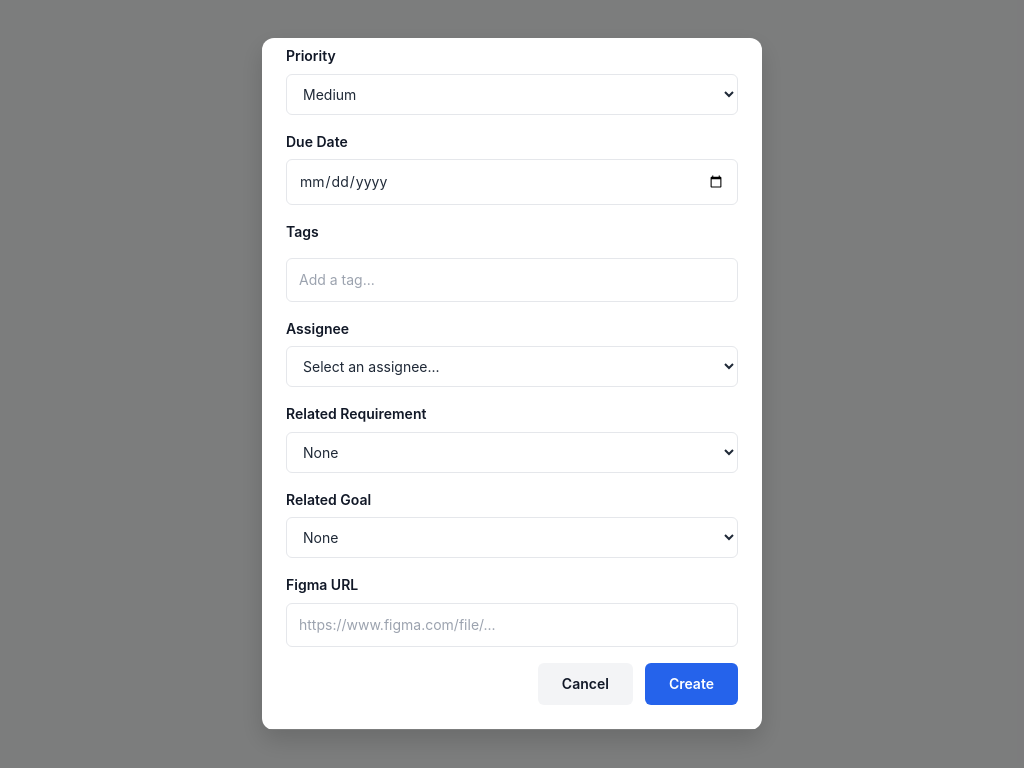
Test: Modal › should clear error when typing in title input
(page scrolled)
Step 1. Click the button with aria-label "Create new item" → (691, 684), box [645,663,738,705]
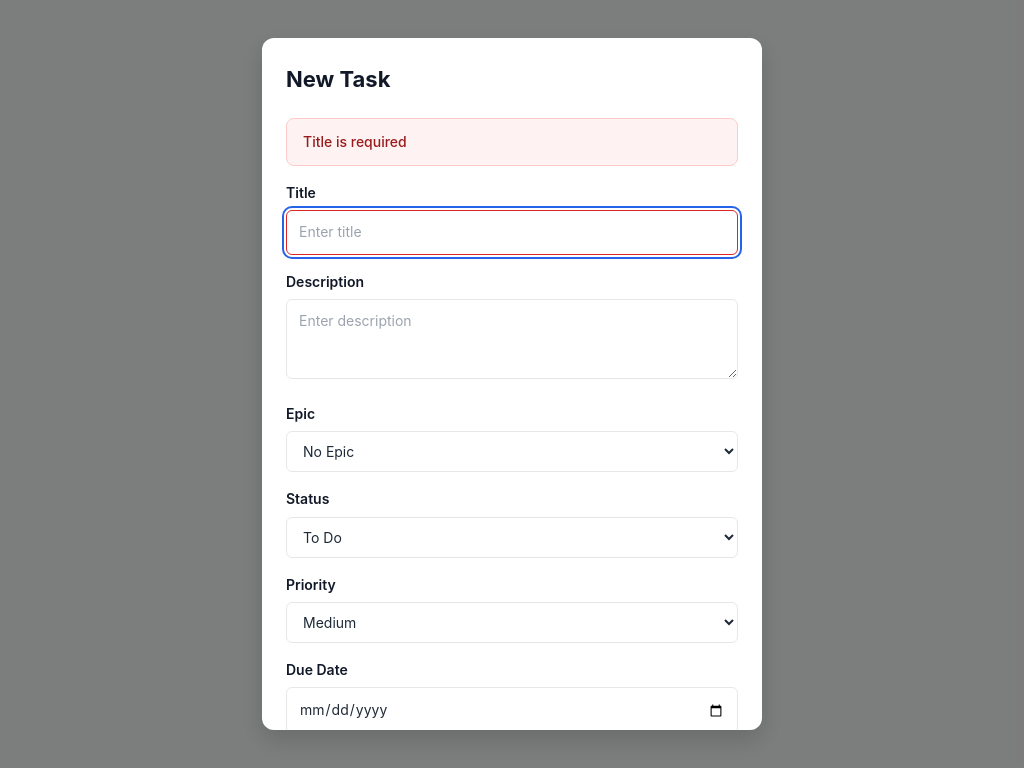
Expected: the message "Title is required" is shown, [286,118,738,166]
Step 2. Type "Test Title" into the field labelled "Title" → (512, 233), box [286,210,738,255]
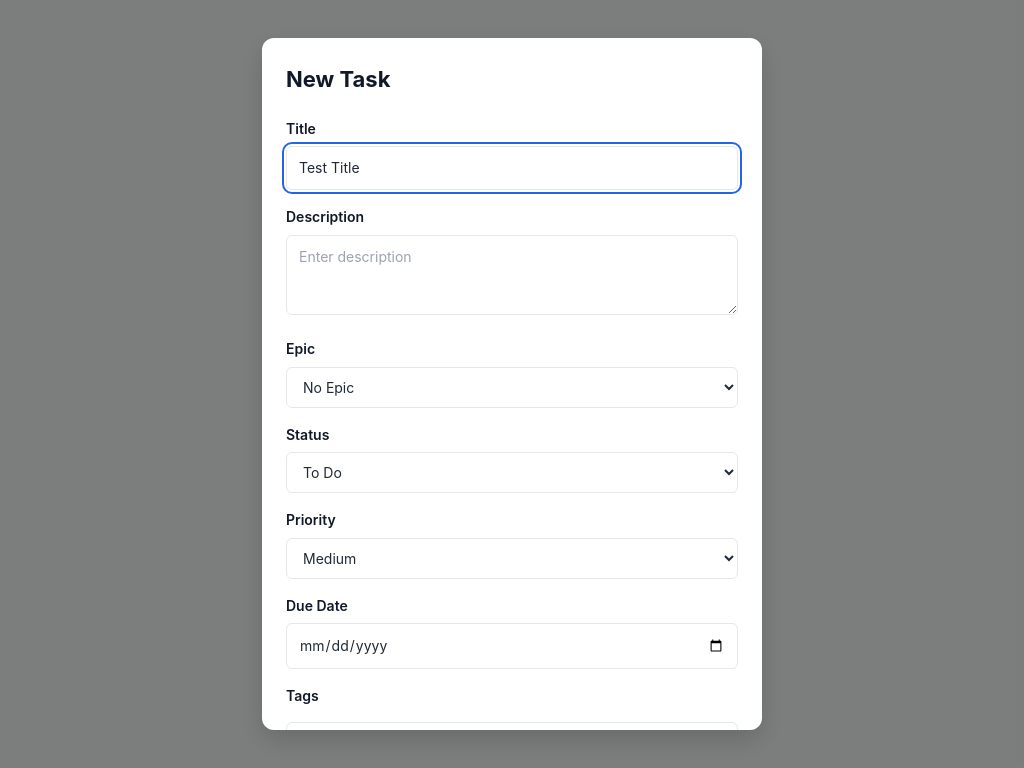
Expected: the message "Title is required" is gone
